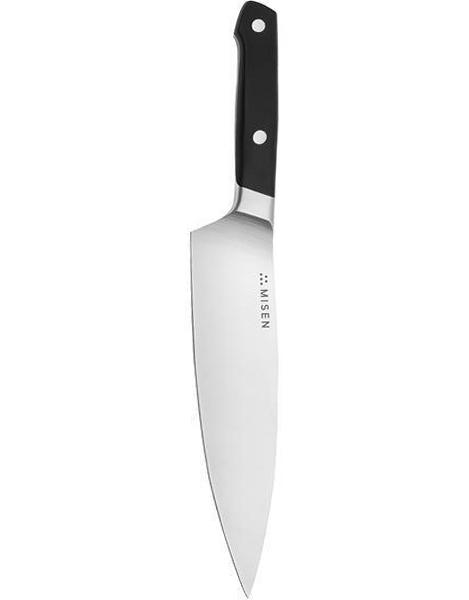knife: (189, 1, 277, 600)
